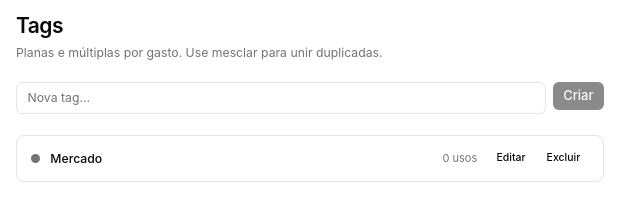
<TagsPage /> › shows a friendly message when deleting a tag in use (422)
This screenshot has width=621, height=220.
What coordinates should you click on to do the following:
click the button with test id "tag-delete-t1"
I would click on:
 (563, 158)
Its box is left=538, top=146, right=589, bottom=170.
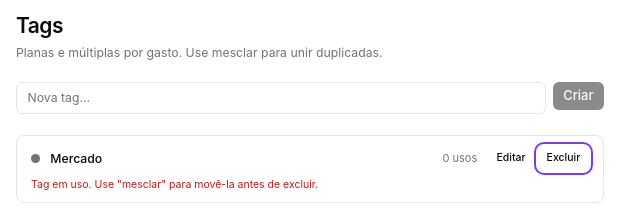
Check: the message shows "mesclar", box left=31, top=178, right=318, bottom=190
